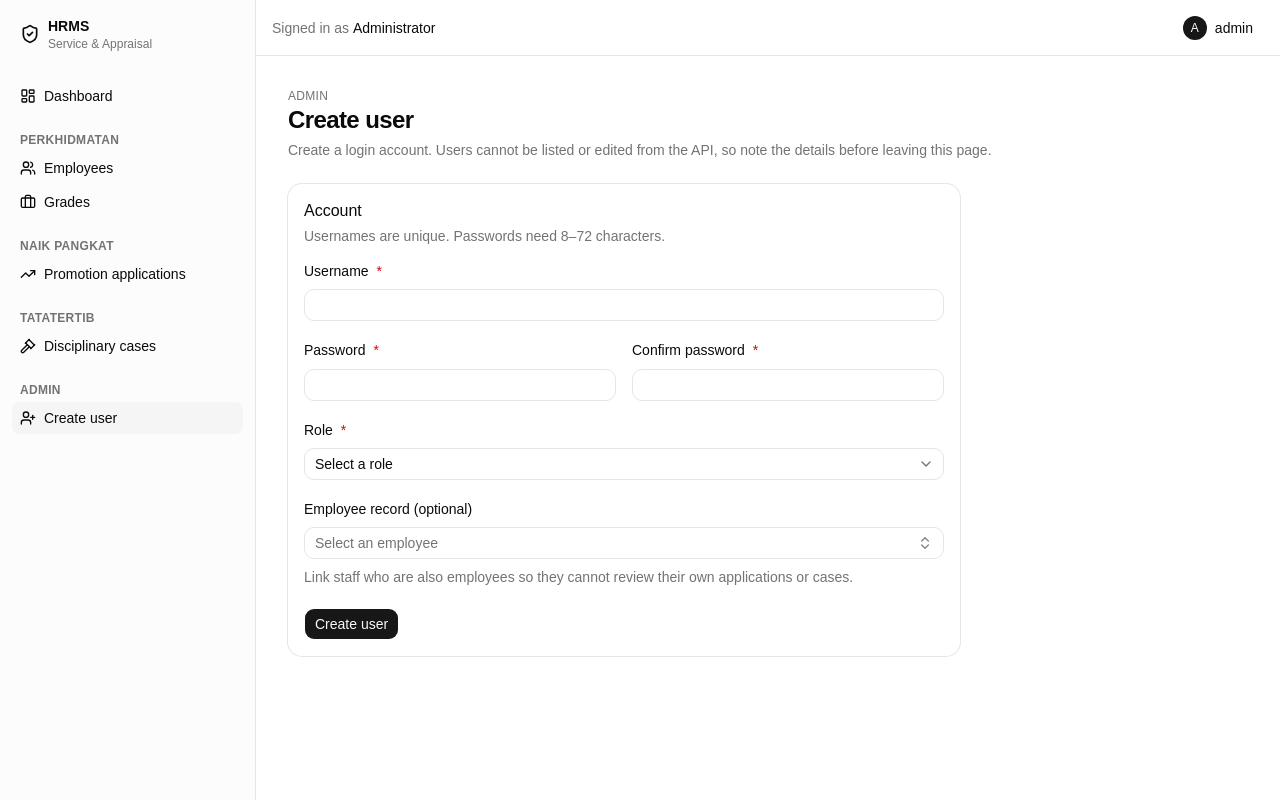
it: create user › puts a duplicate-username conflict on the username field
This screenshot has width=1280, height=800.
In the field labelled "Username *": [624, 305] box [304,289,944,321], type "new.approver"
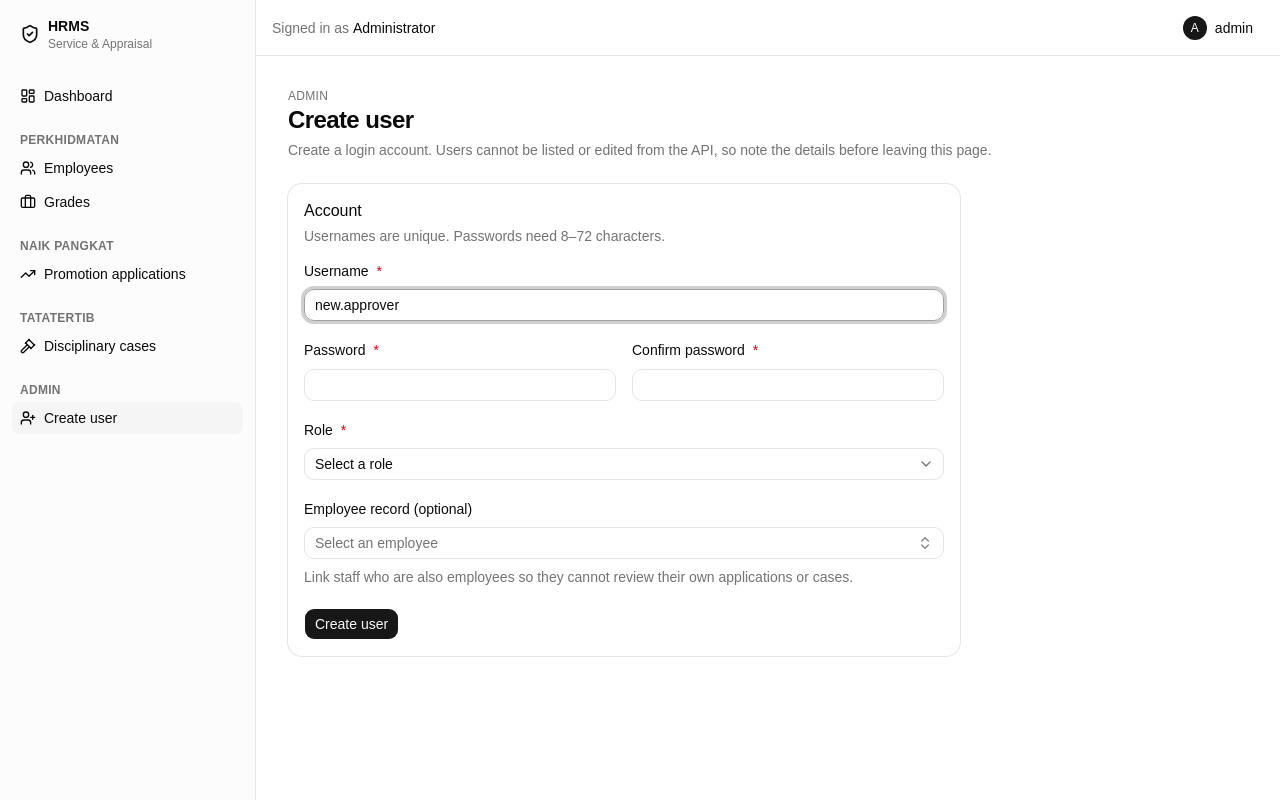
In the password field labelled "Password *": [460, 384] box [304,368,616,400], type "Sup3r-secret"
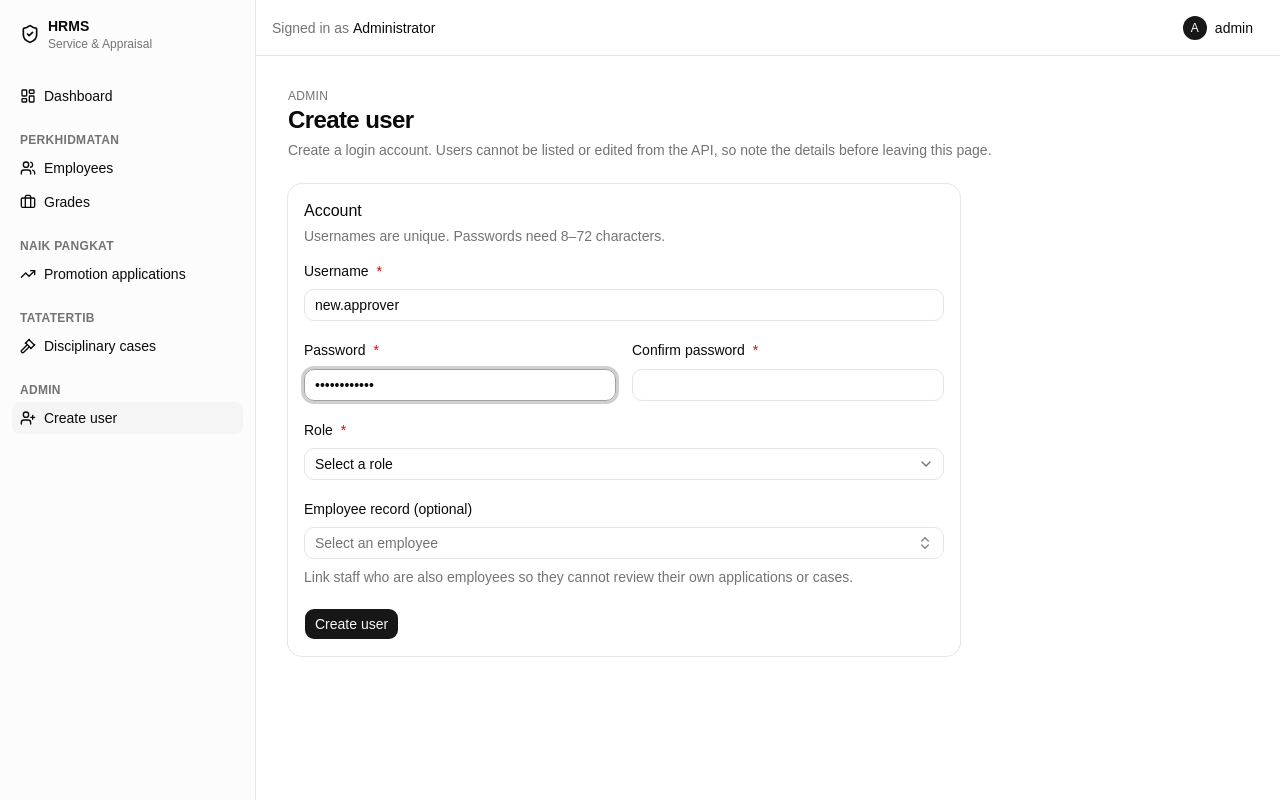
In the password field labelled "Confirm password *": [788, 384] box [632,368,944,400], type "Sup3r-secret"
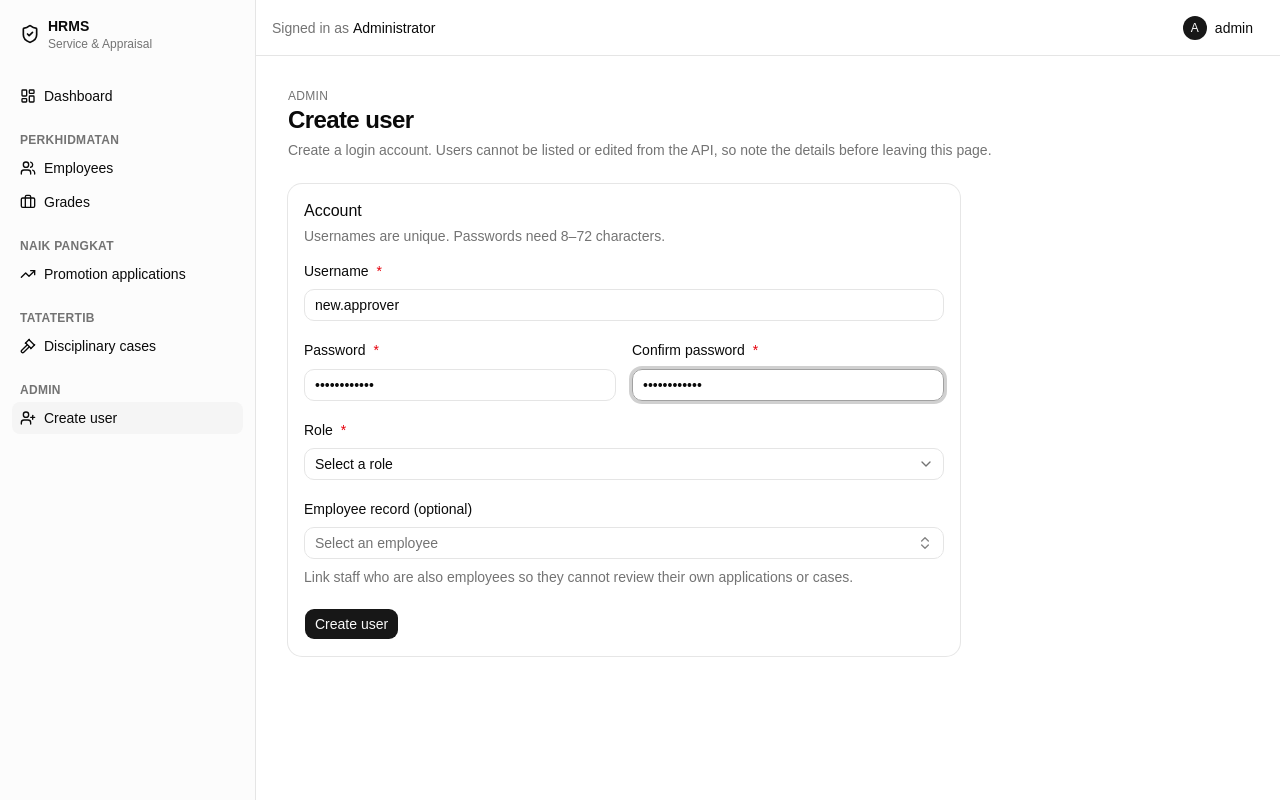
Select "Approver" in the dropdown labelled "Role *": [624, 464] box [304,448,944,480]
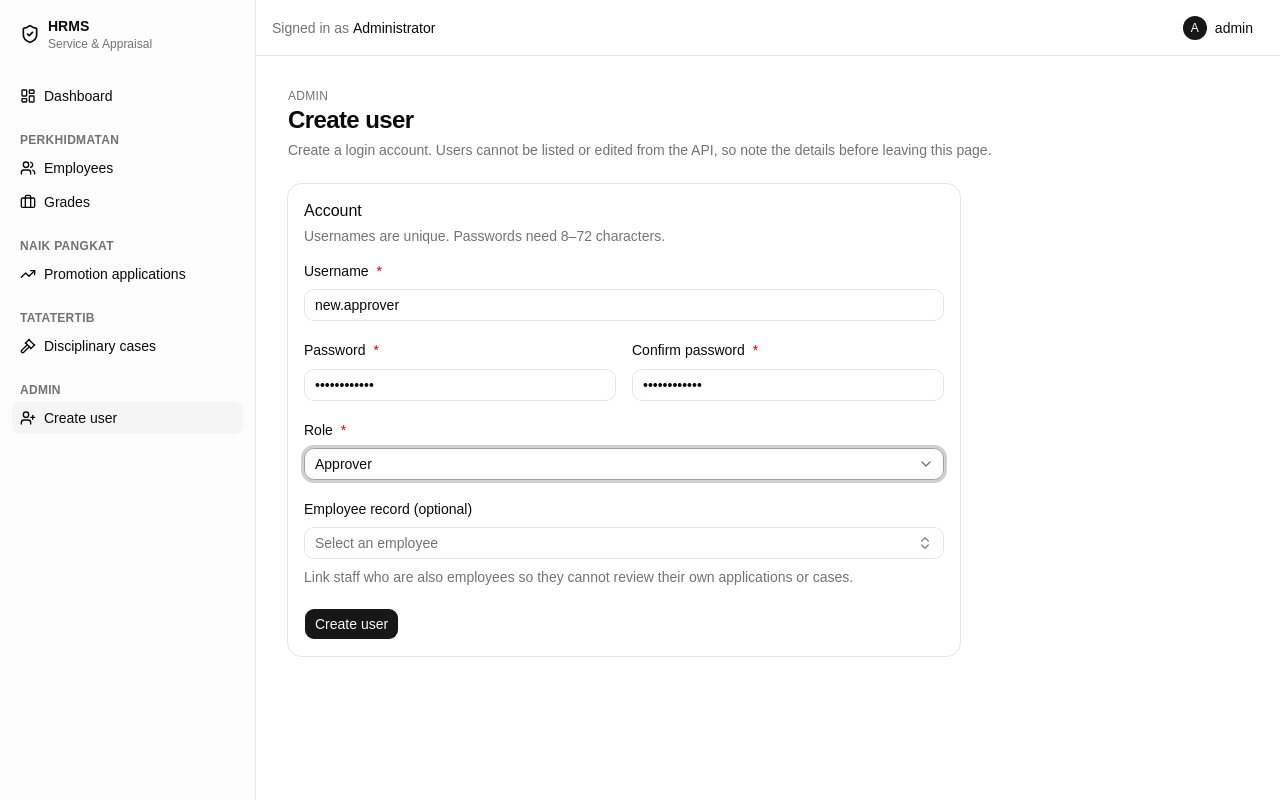
Click the button "Create user": [352, 624] box [304,608,399,640]
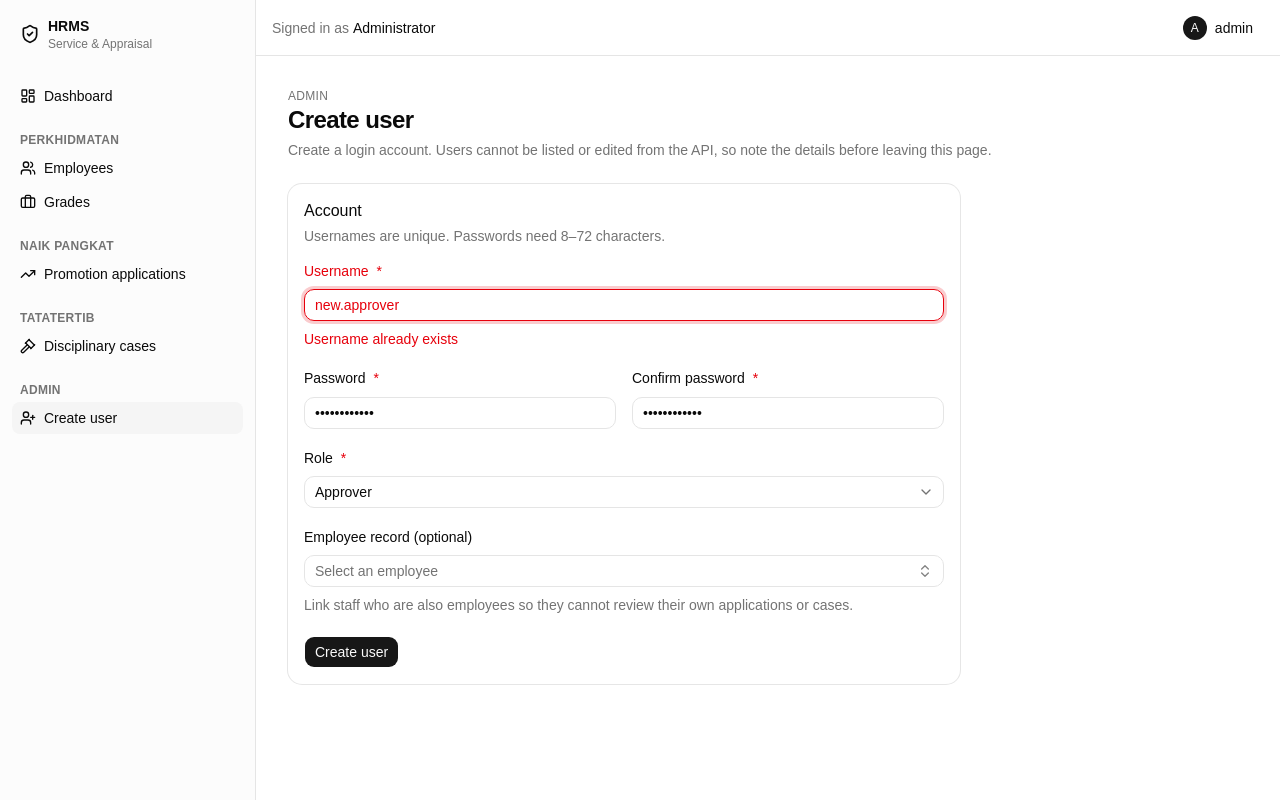
Expected: the text "Username already exists" is shown, [304,331,458,347]
